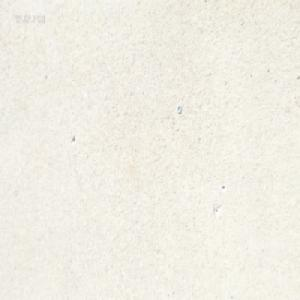Washer: (176, 103, 182, 114)
